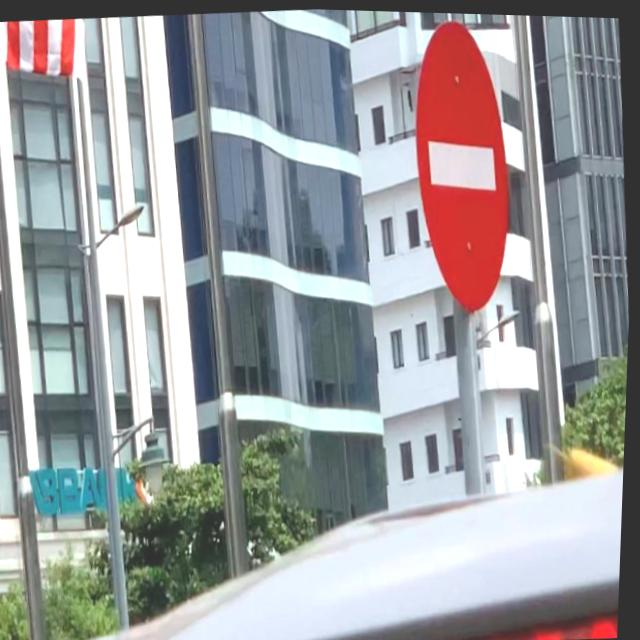Cam di nguoc chieu: (396, 9, 527, 324)
